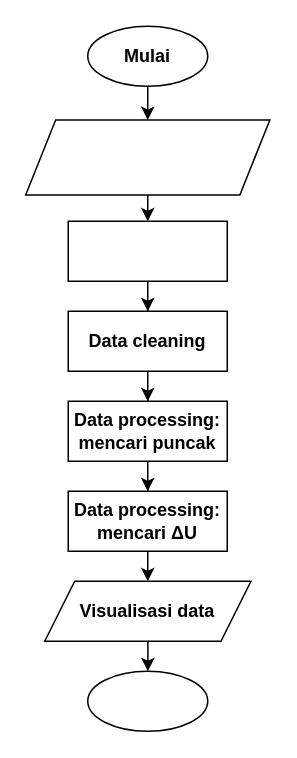
Image size: 297x758. Some labels were removed from this diagram. The shapes that lost their labels are listed below. From the top down, each one's centre as x and y in pixels, then its label:
point (147, 156): Export data CASSY ke raw_data/X.X Y.Y Z.csv
point (147, 250): Data formatting ("," ke ".")
point (147, 700): Selesai
